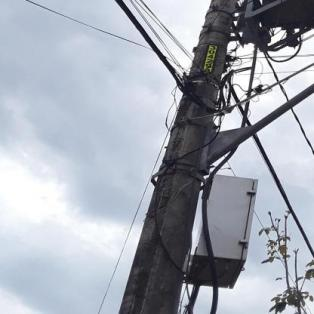Poste: (113, 0, 276, 314)
